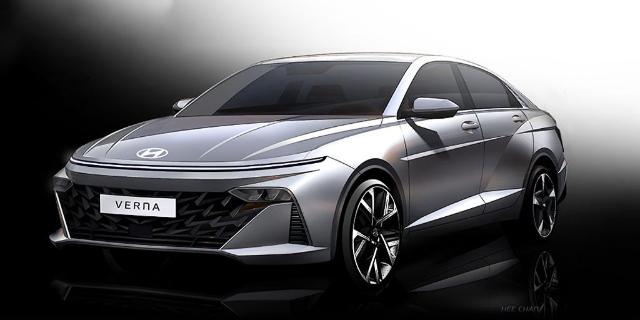hyundai: (47, 51, 569, 297)
